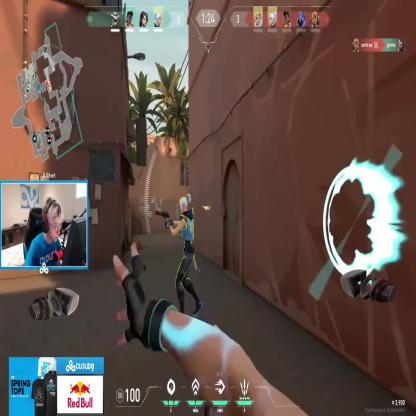enemy: (164, 194, 203, 318)
enemy_head: (179, 195, 190, 215)
